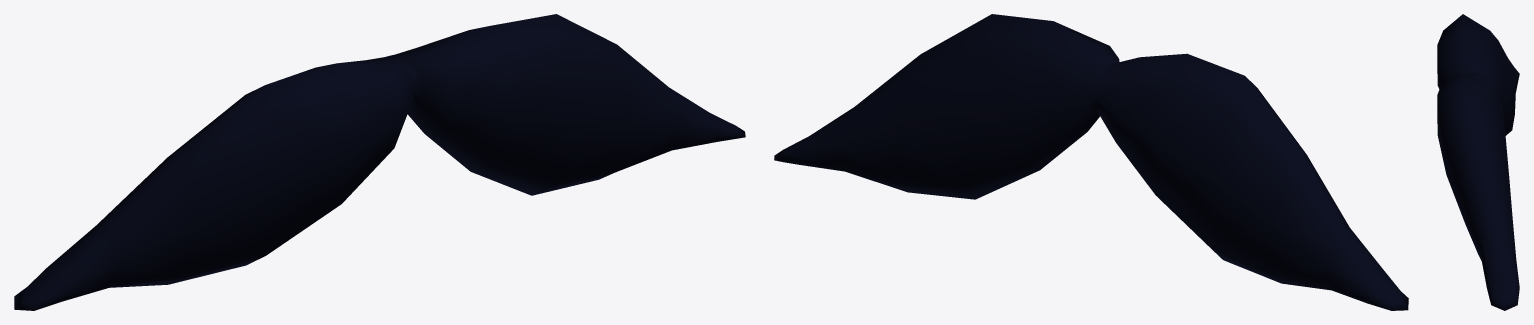
Rendered from facialhair_almond.glb.
3 renders of one model, left to right at view 1: azimuth 30°, elevation 25°; view 2: azimuth 150°, elevation 25°; view 3: azimuth 270°, elevation 25°, orthographic. The views are drawn at different scales.
Parts seen in each view (by area): view 1: Almond; view 2: Almond; view 3: Almond.
Part boxes in pixels (left/top/right/bottom): Almond: left=14, top=14, right=745, bottom=310; Almond: left=774, top=14, right=1408, bottom=310; Almond: left=1437, top=14, right=1519, bottom=310.
Size of the model in its own units: 0.1676 by 0.0459 by 0.0245.
